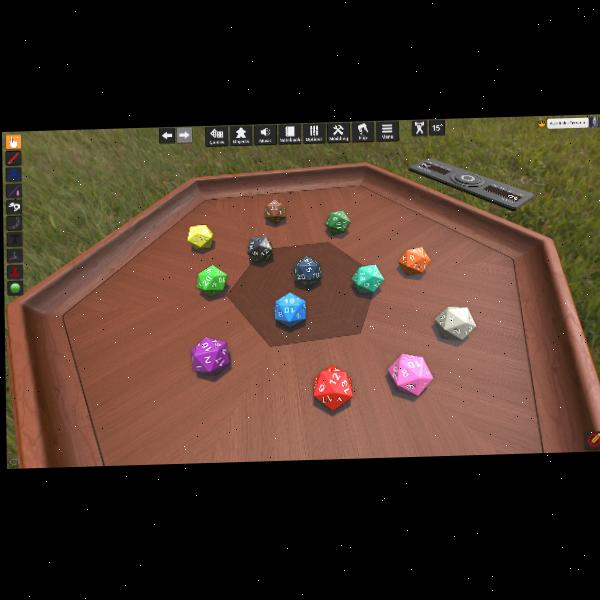d20: (387, 351, 434, 395), (312, 365, 352, 409), (433, 304, 477, 341), (192, 335, 231, 374), (274, 292, 305, 327), (196, 264, 226, 296), (352, 264, 383, 293), (399, 247, 431, 275), (292, 257, 320, 285), (247, 236, 272, 261), (188, 224, 213, 249), (325, 211, 350, 235), (264, 199, 286, 225)
